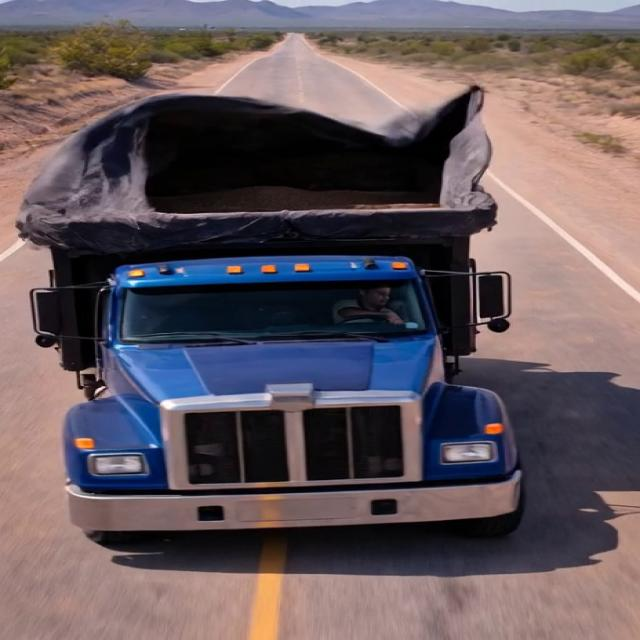trailer: (21, 82, 502, 247)
truck: (10, 50, 543, 562)
